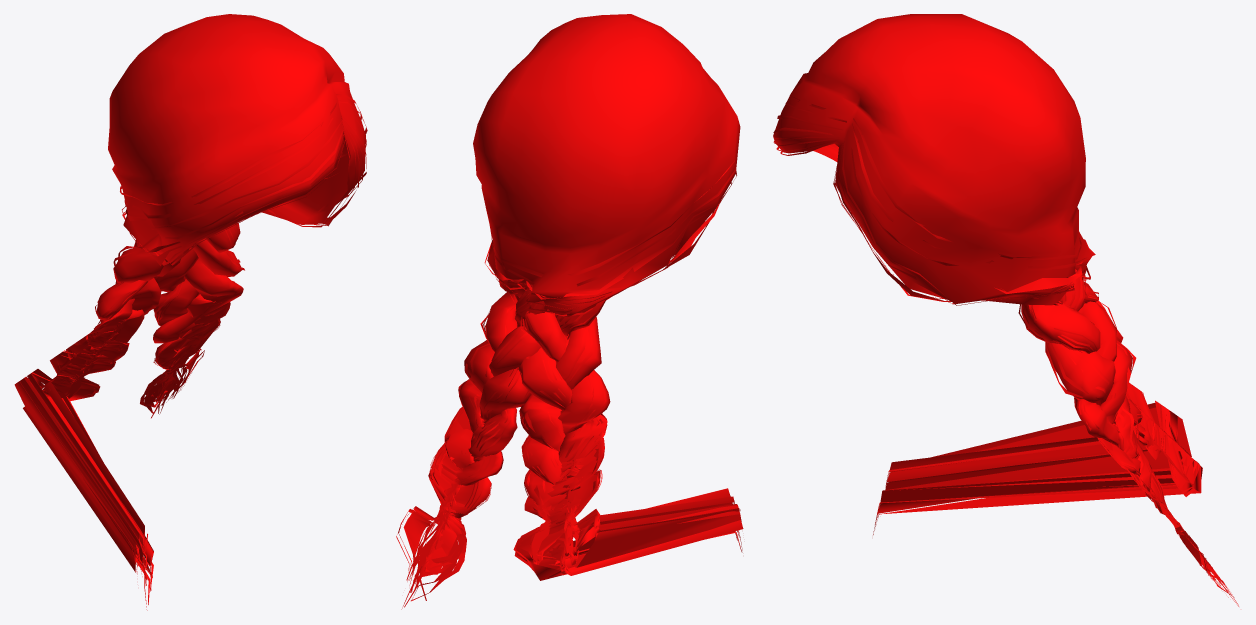
The model's file is elvs_double_mh_braid_M.glb.
3 renders of one model, left to right at view 1: azimuth 30°, elevation 25°; view 2: azimuth 150°, elevation 25°; view 3: azimuth 270°, elevation 25°, orthographic. The views are drawn at different scales.
Size of the model in its own units: 0.2256 by 0.5014 by 0.3689.
1 material, 1 textured.
